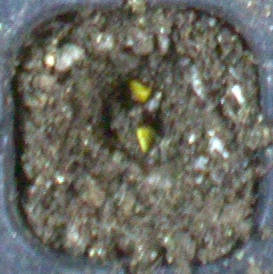chilli seed: (134, 125, 153, 152), (129, 79, 150, 103)
